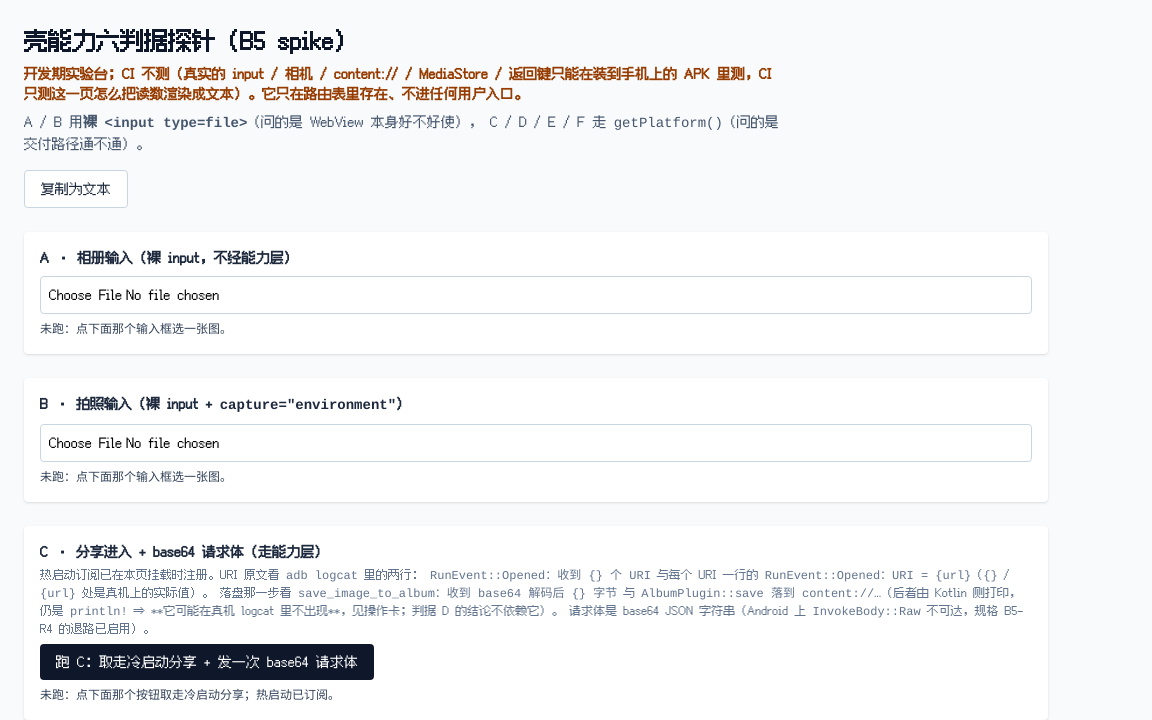
Test: /lab/shell 探针页 › 页首自标「开发期实验台 / CI 不测 / 不进任何用户入口」，六块各有触发点，未跑时报告如实写「（未跑）」
Expected: the element with test id "lab-notice" shows "开发期实验台", [24, 64, 184, 83]
Expected: the element with test id "lab-notice" shows "CI 不测", [24, 64, 184, 83]
Click the button with test id "probe-copy".
click(76, 189)  # box [24, 170, 128, 208]
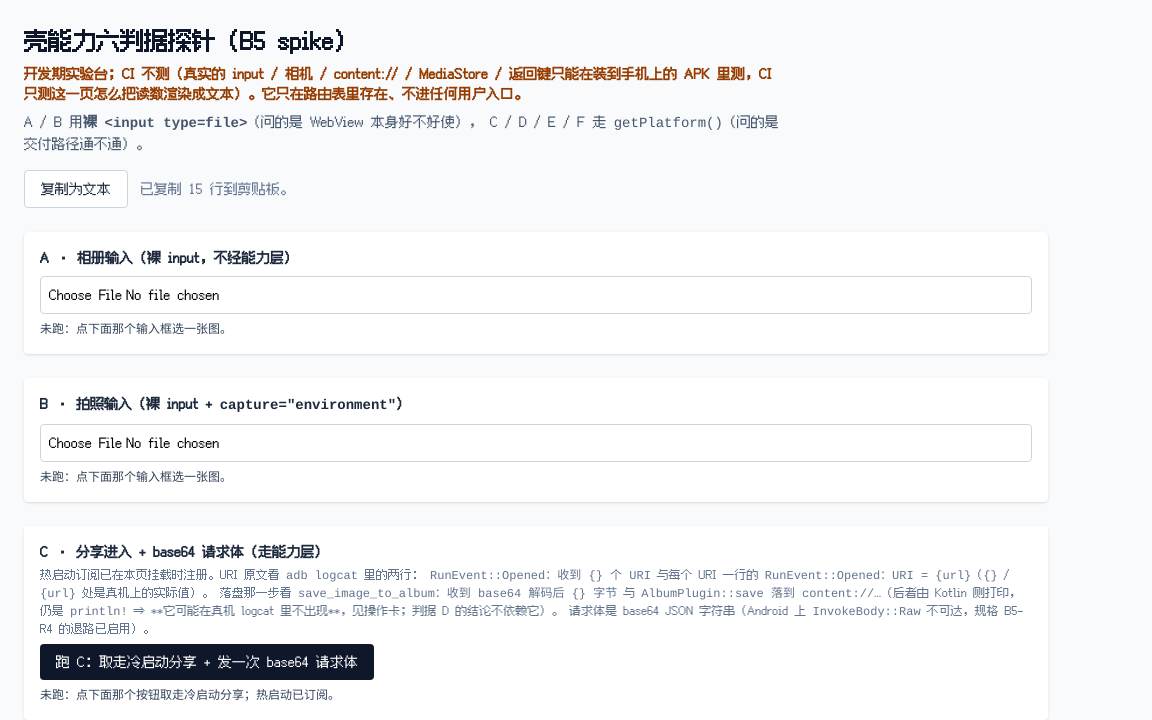
Expected: the text with test id "probe-copy-status" shows "已复制", [140, 179, 294, 198]
Click the button with test id "probe-copy".
click(76, 189)  # box [24, 170, 128, 208]
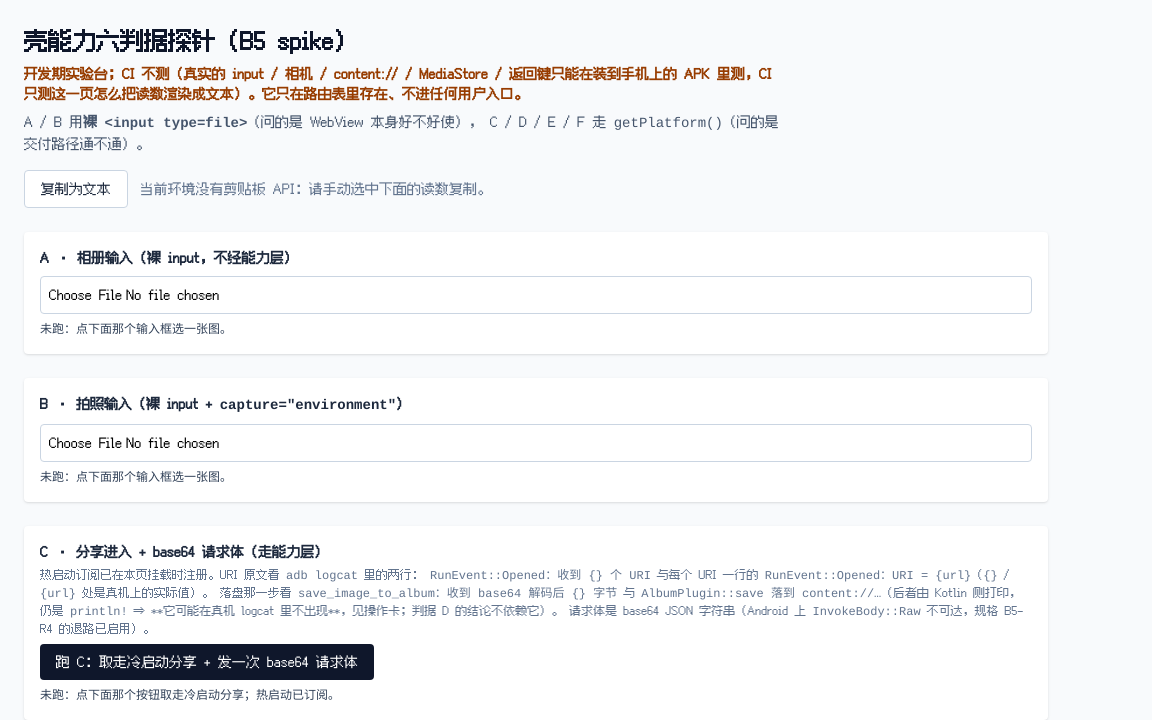
Expected: the text with test id "probe-copy-status" shows "没有剪贴板 API", [140, 179, 491, 198]
